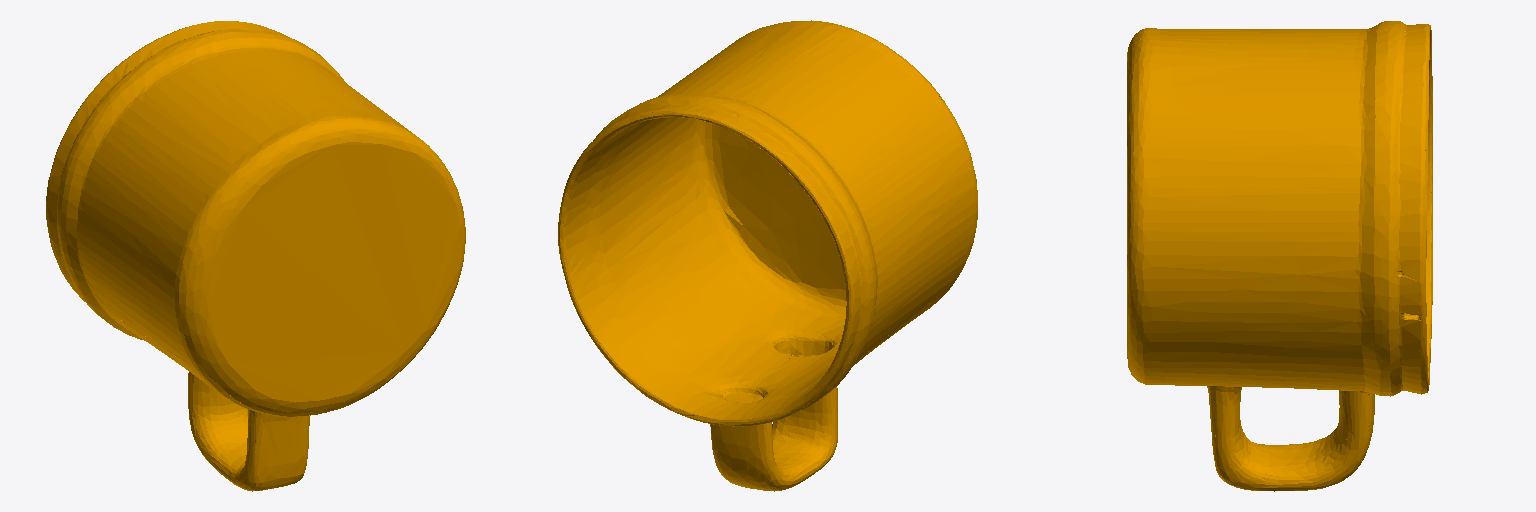
robot.urdf — thermoslid:
<?xml version="1.0" ?>
<!-- auto-generated by gen_object_urdf.py (TactiDex import) -->
<robot name="thermoslid">
  <link name="bottom">
    <inertial>
      <origin rpy="0 0 0" xyz="-0.00053312043 -0.0016715227 0.0067702576"/>
      <mass value="0.2"/>
      <inertia ixx="0.00015366646" ixy="6.5427235e-07" ixz="-1.2149739e-06"
               iyy="0.0001609333" iyz="7.3935794e-07" izz="0.00012117002"/>
    </inertial>
    <visual>
      <origin rpy="0 0 0" xyz="0 0 0"/>
      <geometry><mesh filename="thermoslid.obj" scale="1 1 1"/></geometry>
    </visual>
      <collision>
        <origin rpy="0 0 0" xyz="0 0 0"/>
        <geometry><mesh filename="collision_parts/part_000.obj" scale="1 1 1"/></geometry>
      </collision>
      <collision>
        <origin rpy="0 0 0" xyz="0 0 0"/>
        <geometry><mesh filename="collision_parts/part_001.obj" scale="1 1 1"/></geometry>
      </collision>
      <collision>
        <origin rpy="0 0 0" xyz="0 0 0"/>
        <geometry><mesh filename="collision_parts/part_002.obj" scale="1 1 1"/></geometry>
      </collision>
      <collision>
        <origin rpy="0 0 0" xyz="0 0 0"/>
        <geometry><mesh filename="collision_parts/part_003.obj" scale="1 1 1"/></geometry>
      </collision>
      <collision>
        <origin rpy="0 0 0" xyz="0 0 0"/>
        <geometry><mesh filename="collision_parts/part_004.obj" scale="1 1 1"/></geometry>
      </collision>
      <collision>
        <origin rpy="0 0 0" xyz="0 0 0"/>
        <geometry><mesh filename="collision_parts/part_005.obj" scale="1 1 1"/></geometry>
      </collision>
      <collision>
        <origin rpy="0 0 0" xyz="0 0 0"/>
        <geometry><mesh filename="collision_parts/part_006.obj" scale="1 1 1"/></geometry>
      </collision>
      <collision>
        <origin rpy="0 0 0" xyz="0 0 0"/>
        <geometry><mesh filename="collision_parts/part_007.obj" scale="1 1 1"/></geometry>
      </collision>
      <collision>
        <origin rpy="0 0 0" xyz="0 0 0"/>
        <geometry><mesh filename="collision_parts/part_008.obj" scale="1 1 1"/></geometry>
      </collision>
      <collision>
        <origin rpy="0 0 0" xyz="0 0 0"/>
        <geometry><mesh filename="collision_parts/part_009.obj" scale="1 1 1"/></geometry>
      </collision>
      <collision>
        <origin rpy="0 0 0" xyz="0 0 0"/>
        <geometry><mesh filename="collision_parts/part_010.obj" scale="1 1 1"/></geometry>
      </collision>
      <collision>
        <origin rpy="0 0 0" xyz="0 0 0"/>
        <geometry><mesh filename="collision_parts/part_011.obj" scale="1 1 1"/></geometry>
      </collision>
      <collision>
        <origin rpy="0 0 0" xyz="0 0 0"/>
        <geometry><mesh filename="collision_parts/part_012.obj" scale="1 1 1"/></geometry>
      </collision>
      <collision>
        <origin rpy="0 0 0" xyz="0 0 0"/>
        <geometry><mesh filename="collision_parts/part_013.obj" scale="1 1 1"/></geometry>
      </collision>
      <collision>
        <origin rpy="0 0 0" xyz="0 0 0"/>
        <geometry><mesh filename="collision_parts/part_014.obj" scale="1 1 1"/></geometry>
      </collision>
      <collision>
        <origin rpy="0 0 0" xyz="0 0 0"/>
        <geometry><mesh filename="collision_parts/part_015.obj" scale="1 1 1"/></geometry>
      </collision>
      <collision>
        <origin rpy="0 0 0" xyz="0 0 0"/>
        <geometry><mesh filename="collision_parts/part_016.obj" scale="1 1 1"/></geometry>
      </collision>
      <collision>
        <origin rpy="0 0 0" xyz="0 0 0"/>
        <geometry><mesh filename="collision_parts/part_017.obj" scale="1 1 1"/></geometry>
      </collision>
      <collision>
        <origin rpy="0 0 0" xyz="0 0 0"/>
        <geometry><mesh filename="collision_parts/part_018.obj" scale="1 1 1"/></geometry>
      </collision>
      <collision>
        <origin rpy="0 0 0" xyz="0 0 0"/>
        <geometry><mesh filename="collision_parts/part_019.obj" scale="1 1 1"/></geometry>
      </collision>
      <collision>
        <origin rpy="0 0 0" xyz="0 0 0"/>
        <geometry><mesh filename="collision_parts/part_020.obj" scale="1 1 1"/></geometry>
      </collision>
      <collision>
        <origin rpy="0 0 0" xyz="0 0 0"/>
        <geometry><mesh filename="collision_parts/part_021.obj" scale="1 1 1"/></geometry>
      </collision>
      <collision>
        <origin rpy="0 0 0" xyz="0 0 0"/>
        <geometry><mesh filename="collision_parts/part_022.obj" scale="1 1 1"/></geometry>
      </collision>
      <collision>
        <origin rpy="0 0 0" xyz="0 0 0"/>
        <geometry><mesh filename="collision_parts/part_023.obj" scale="1 1 1"/></geometry>
      </collision>
  </link>
</robot>

--- Facts derived from the render (not from the file) ---
3 views of the same robot in one strip: view 1: azimuth 30°, elevation 25°; view 2: azimuth 150°, elevation 25°; view 3: azimuth 270°, elevation 25° (orthographic).
Model thermoslid with 1 links and 0 joints (none), rooted at bottom, posed all joints at 0.
Visible links, largest first — view 1: bottom; view 2: bottom; view 3: bottom.
Boxes of the visible links, left/top/right/bottom form: bottom: left=46, top=21, right=465, bottom=491; bottom: left=558, top=20, right=977, bottom=491; bottom: left=1127, top=21, right=1432, bottom=491.
Bounding box of the posed robot: 0.0764 × 0.0611 × 0.0981 m (x, y, z).
Meshes: 1 distinct files referenced, 1 mesh visuals loaded (1 OBJ).
